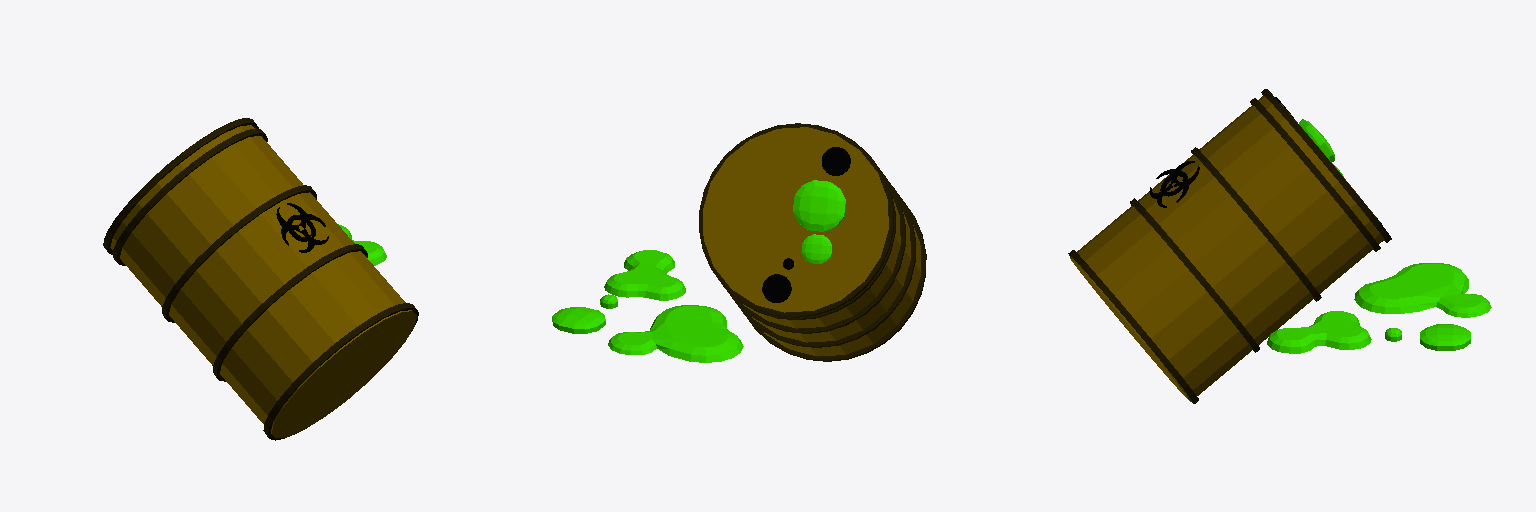
The model's file is toxicatik.obj.
The picture shows the model from 3 angles: view 1: azimuth 30°, elevation 25°; view 2: azimuth 150°, elevation 25°; view 3: azimuth 270°, elevation 25°; orthographic projection.
Visible parts, largest first — view 1: Cylinder001, Tube001, Tube002, Tube003, Tube005, Tube004, BioHazard_Logo; view 2: Cylinder001, toxic003, toxic2, Tube004, toxic005, Tube001, Tube002, Tube003, toxic004, toxic006, Cylinder003, Cylinder002 (+1 smaller); view 3: Cylinder001, toxic003, toxic2, Tube005, Tube003, Tube002, Tube001, Tube004, toxic004, BioHazard_Logo.
Part boxes in pixels (bbox=[...]): Cylinder001: bbox=[110, 125, 416, 438]; Tube001: bbox=[263, 303, 418, 440]; Tube002: bbox=[213, 244, 367, 381]; Tube003: bbox=[162, 185, 316, 322]; Tube005: bbox=[113, 128, 267, 265]; Tube004: bbox=[103, 118, 258, 254]; BioHazard_Logo: bbox=[276, 203, 328, 252]; Cylinder001: bbox=[703, 127, 920, 356]; toxic003: bbox=[608, 305, 743, 362]; toxic2: bbox=[604, 250, 685, 300]; Tube004: bbox=[699, 123, 893, 317]; toxic005: bbox=[793, 180, 845, 231]; Tube001: bbox=[747, 199, 926, 361]; Tube002: bbox=[737, 187, 915, 347]; Tube003: bbox=[727, 172, 905, 333]; toxic004: bbox=[552, 307, 605, 333]; toxic006: bbox=[801, 234, 832, 263]; Cylinder003: bbox=[822, 147, 850, 175]; Cylinder002: bbox=[762, 274, 791, 302]; Cylinder001: bbox=[1070, 94, 1383, 401]; toxic003: bbox=[1354, 263, 1491, 317]; toxic2: bbox=[1267, 311, 1371, 353]; Tube005: bbox=[1250, 98, 1380, 251]; Tube003: bbox=[1191, 147, 1321, 301]; Tube002: bbox=[1130, 198, 1259, 352]; Tube001: bbox=[1068, 250, 1198, 403]; Tube004: bbox=[1261, 89, 1391, 242]; toxic004: bbox=[1420, 324, 1470, 350]; BioHazard_Logo: bbox=[1149, 161, 1199, 207].
Bounding box in the file's own units: 33.71 × 33.59 × 46.14.